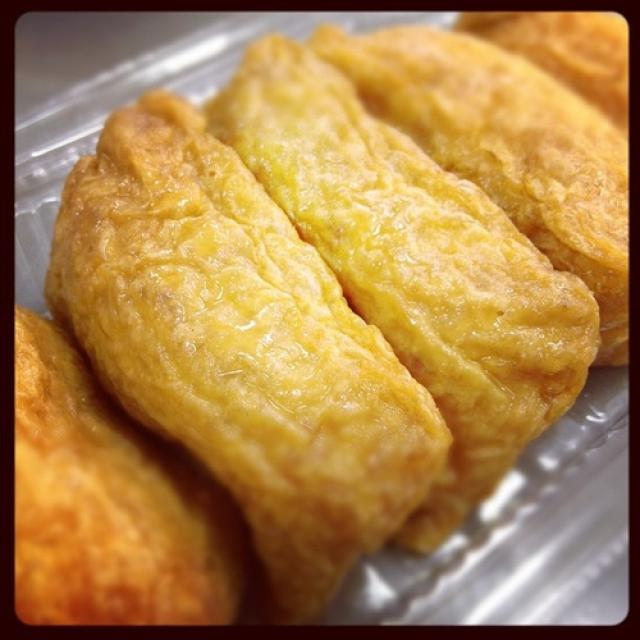寿司卷物: (18, 18, 627, 621)
